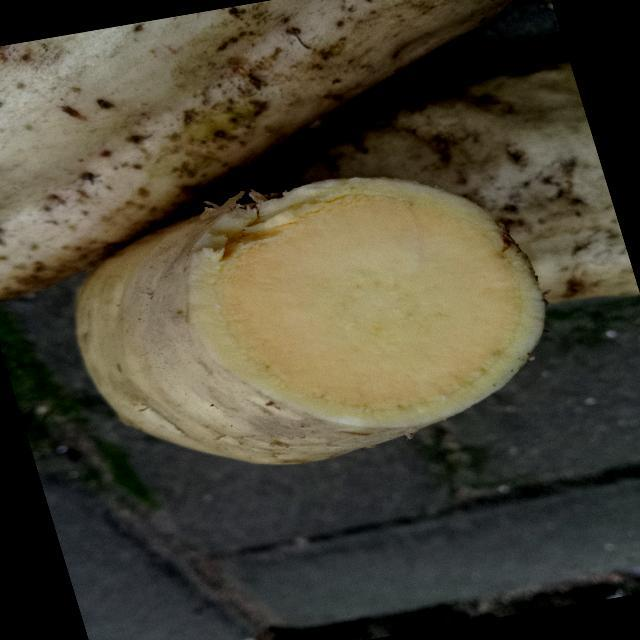Healthy Sweet Potato: (190, 179, 545, 428)
